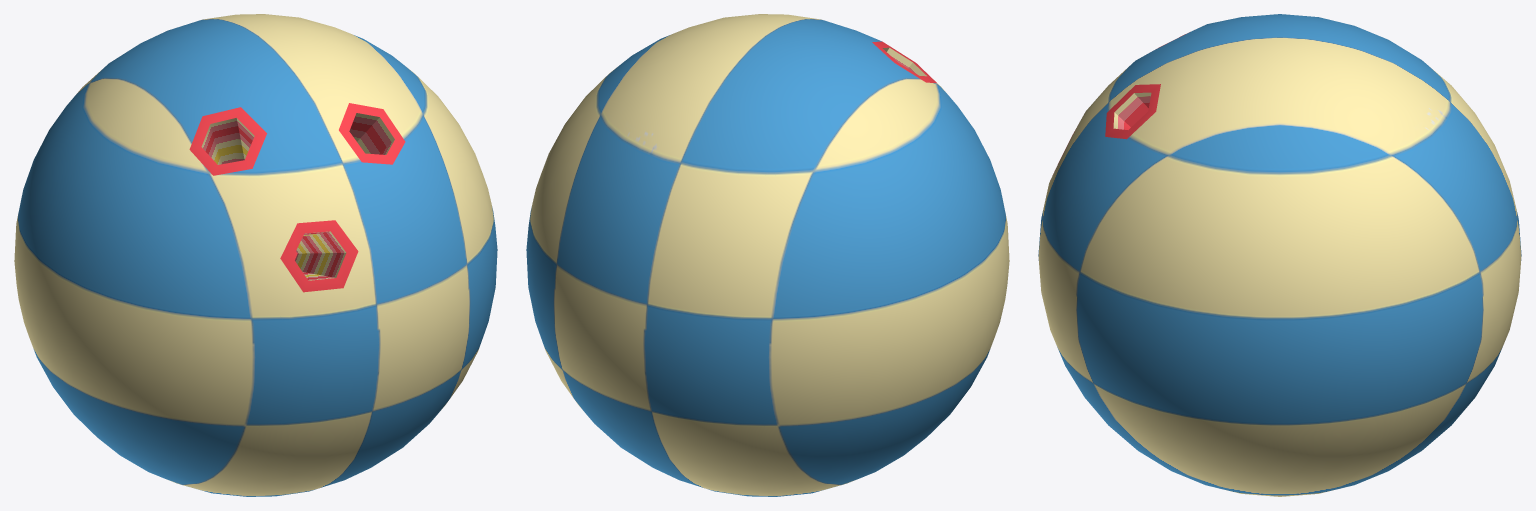
Rendered from M_bowling.fbx.
The picture shows the model from 3 angles, left to right: view 1: azimuth 30°, elevation 25°; view 2: azimuth 150°, elevation 25°; view 3: azimuth 270°, elevation 25°; orthographic projection.
Parts seen in each view (by area): view 1: Icosphere.001; view 2: Icosphere.001; view 3: Icosphere.001.
Part boxes in pixels (<box>): Icosphere.001: <box>14,14,497,496</box>; Icosphere.001: <box>526,14,1009,496</box>; Icosphere.001: <box>1038,14,1521,496</box>.
Size of the model in its own units: 74.97 by 74.97 by 74.97.
